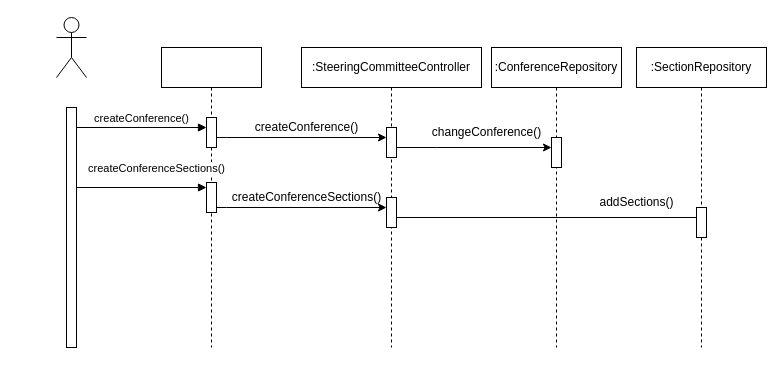
Some shapes in this 784 by 365 pixel diagram are drawn without their labels. Each missing label, with the centre of its shape:
:Steering Committee: the point at 71,47
:UI: the point at 211,197
